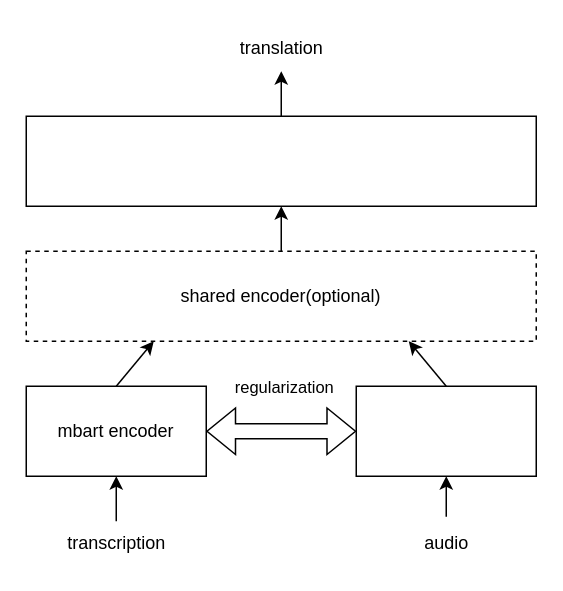
The diagram is 563 pixels wide and 591 high, and some of its shapes have lost their labels. Each missing label, with the centre of its shape:
"whisper decoder" belongs at (280,160).
"whisper encoder" belongs at (445,430).
